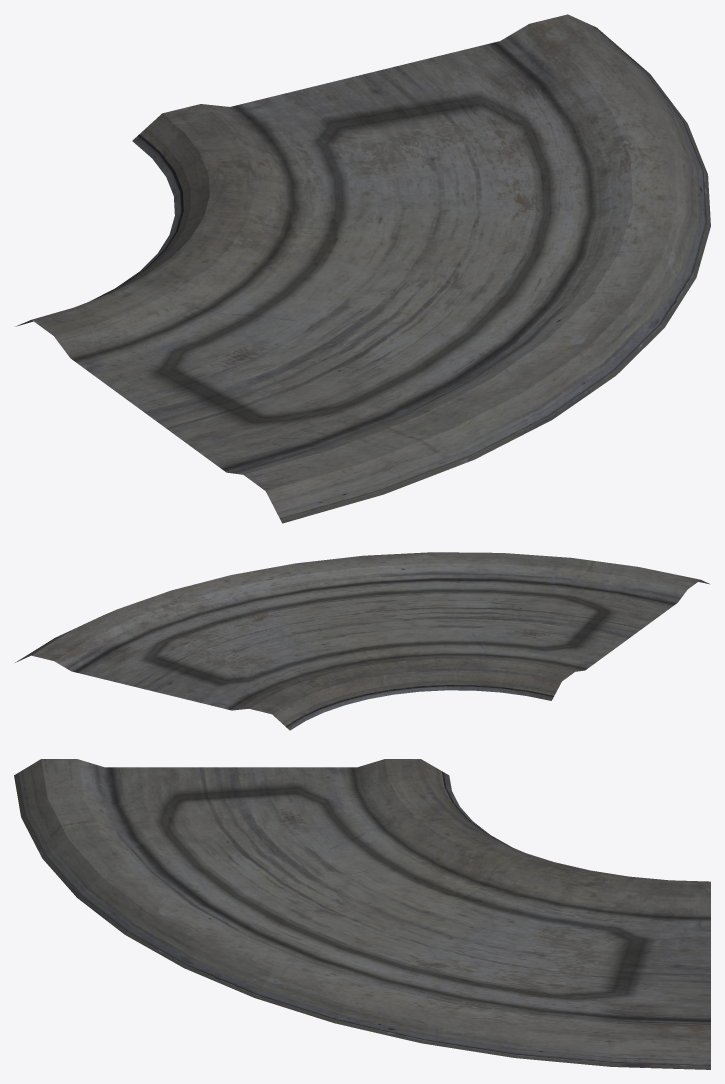
The model's file is Ceiling_Curved.FBX.
The picture shows the model from 3 angles, top to bottom: view 1: azimuth 30°, elevation 25°; view 2: azimuth 150°, elevation 25°; view 3: azimuth 270°, elevation 25°; orthographic projection. The views are drawn at different scales.
Parts seen in each view (by area): view 1: Ceiling_003; view 2: Ceiling_003; view 3: Ceiling_003.
Boxes of the visible parts, x1=… form: Ceiling_003: x1=15, y1=14, x2=710, y2=523; Ceiling_003: x1=15, y1=552, x2=709, y2=730; Ceiling_003: x1=14, y1=759, x2=710, y2=1069.
Size of the model in its own units: 1233 by 32 by 1233.
